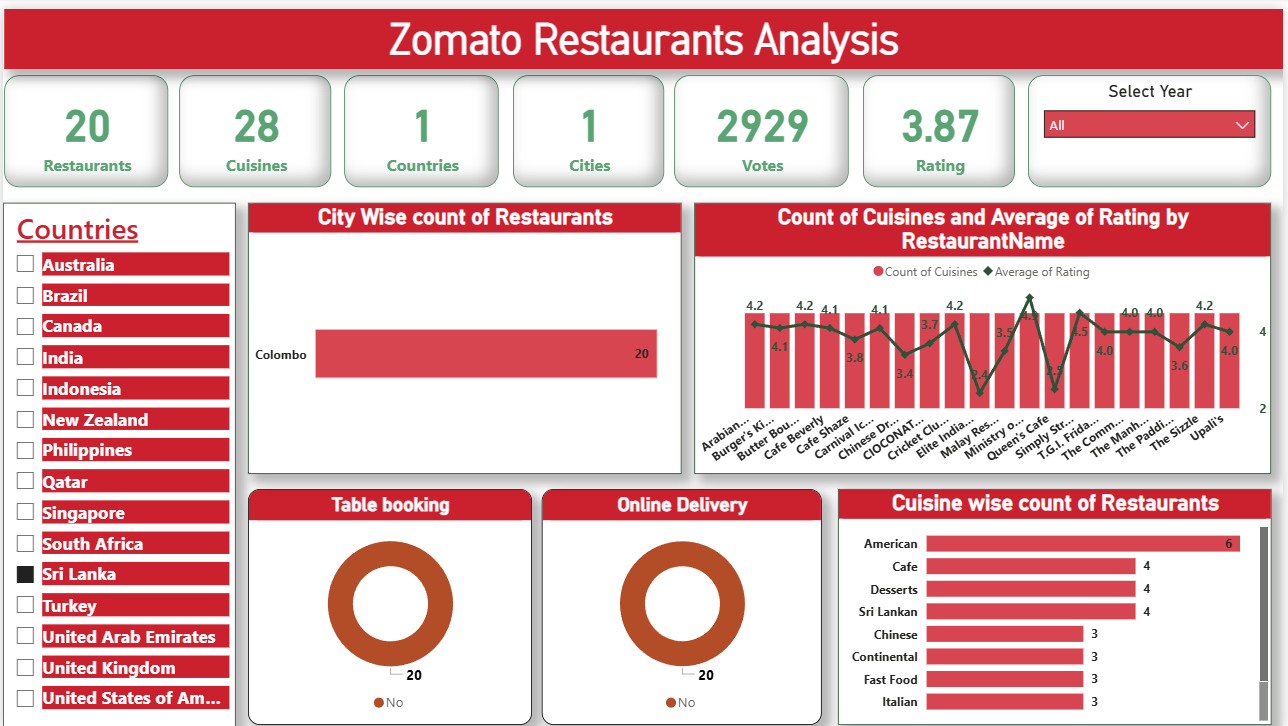

The page's visual inventory and layout, read from the dashboard file:
{"tool":"powerbi","page":{"name":"Dashboard","canvas":[1280,720],"ordinal":0},"visuals":[{"type":"slicer","fields":{"Values":["Sheet2.country name"]},"box":[0,194.2,232.6,526.7],"z":0},{"type":"card","fields":{"Values":["CountNonNull(Sheet2.countryID)"]},"box":[340.7,66.3,154.7,111.6],"z":2000},{"type":"card","fields":{"Values":["Count(Sheet1.Cuisines)"]},"box":[176.7,66.3,152.3,111.6],"z":3000},{"type":"card","fields":{"Values":["Count(Sheet1.RestaurantID)"]},"box":[1.2,66.3,164,111.6],"z":4000},{"type":"card","fields":{"Values":["Count(Sheet1.City)"]},"box":[510.5,66.3,151.2,111.6],"z":5000},{"type":"textbox","box":[1.5,0,1279.2,60.3],"z":6000},{"type":"donutChart","title":"Table booking ","fields":{"Category":["cuisines copy.Has_Table_booking"],"Y":["CountNonNull(cuisines copy.Has_Table_booking)"]},"box":[245.3,480.2,283.7,236],"z":7000},{"type":"donutChart","title":"Online Delivery","fields":{"Category":["cuisines copy.Has_Online_delivery"],"Y":["CountNonNull(cuisines copy.Has_Online_delivery)"]},"box":[538.4,480.2,280.2,236],"z":8000},{"type":"clusteredBarChart","title":"Cuisine wise count of Restaurants","fields":{"Category":["Sheet1.Column"],"Y":["CountNonNull(Sheet1.Cuisines)"]},"box":[834.9,480.2,433.7,236],"z":9000},{"type":"clusteredBarChart","title":"City Wise count of Restaurants","fields":{"Category":["cuisines copy.City"],"Y":["CountNonNull(cuisines copy.RestaurantID)"]},"box":[245.3,194.2,433.7,270.9],"z":10000},{"type":"lineStackedColumnComboChart","fields":{"Category":["cuisines copy.RestaurantName"],"Y":["CountNonNull(cuisines copy.Cuisines)"],"Y2":["Avg(cuisines copy.Rating)"]},"box":[691.9,194.2,576.7,270.9],"z":11000},{"type":"slicer","title":"Select Year","fields":{"Values":["cuisines copy.new datekey.Variation.Date Hierarchy.Year","cuisines copy.new datekey.Variation.Date Hierarchy.Quarter","cuisines copy.new datekey.Variation.Date Hierarchy.Month","cuisines copy.new datekey.Variation.Date Hierarchy.Day"]},"box":[1025.6,66.3,243,111.6],"z":13000},{"type":"card","fields":{"Values":["Sum(cuisines copy.Votes)"]},"box":[670.9,66.3,174.4,111.6],"z":14000},{"type":"card","fields":{"Values":["Avg(cuisines copy.Rating)"]},"box":[860.5,66.3,152.3,111.6],"z":15000}]}

Visuals, with their boxes in screenshot pixels (x1, y1, x2, y2), scaled from the page's 1280x720 canvas onto the 1288x726 screenshot:
slicer - Sheet2.country name: <bbox>0, 196, 234, 725</bbox>
card - CountNonNull(Sheet2.countryID): <bbox>343, 67, 498, 179</bbox>
card - Count(Sheet1.Cuisines): <bbox>178, 67, 331, 179</bbox>
card - Count(Sheet1.RestaurantID): <bbox>1, 67, 166, 179</bbox>
card - Count(Sheet1.City): <bbox>514, 67, 666, 179</bbox>
textbox: <bbox>2, 0, 1287, 61</bbox>
"Table booking " donutChart: <bbox>247, 484, 532, 722</bbox>
"Online Delivery" donutChart: <bbox>542, 484, 824, 722</bbox>
"Cuisine wise count of Restaurants" clusteredBarChart: <bbox>840, 484, 1277, 722</bbox>
"City Wise count of Restaurants" clusteredBarChart: <bbox>247, 196, 683, 469</bbox>
lineStackedColumnComboChart - cuisines copy.RestaurantName x CountNonNull(cuisines copy.Cuisines): <bbox>696, 196, 1277, 469</bbox>
"Select Year" slicer: <bbox>1032, 67, 1277, 179</bbox>
card - Sum(cuisines copy.Votes): <bbox>675, 67, 851, 179</bbox>
card - Avg(cuisines copy.Rating): <bbox>866, 67, 1019, 179</bbox>
